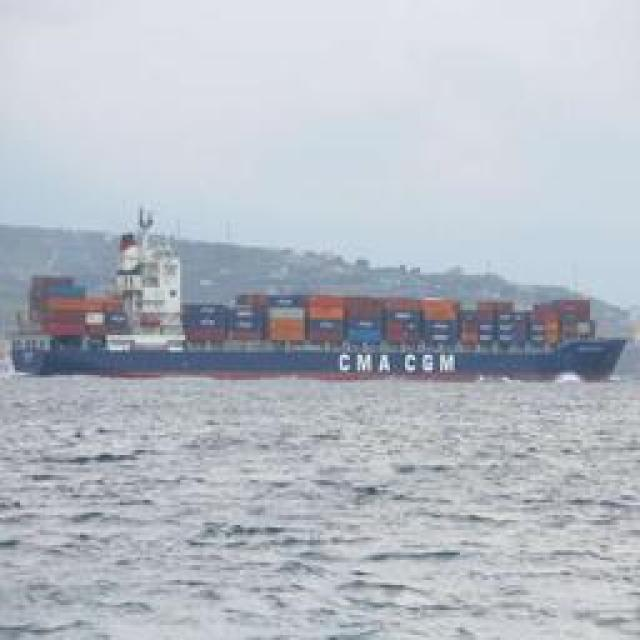CIV_Ship: (9, 221, 632, 391)
